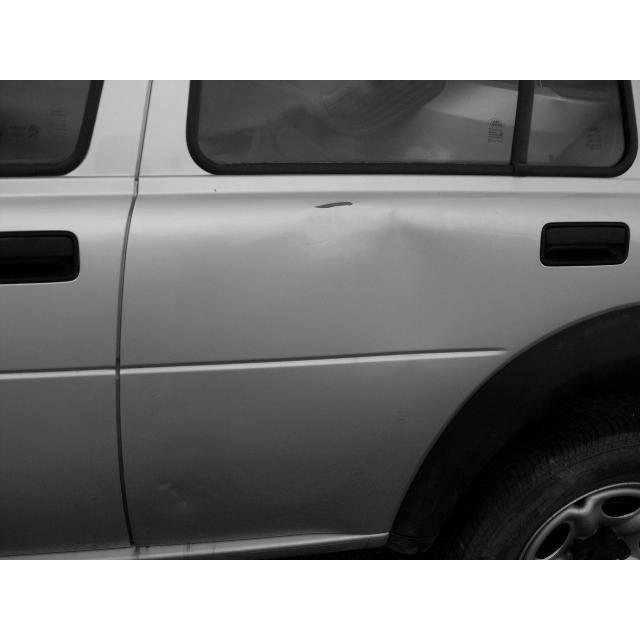doorouter-dent: (147, 183, 640, 559)
